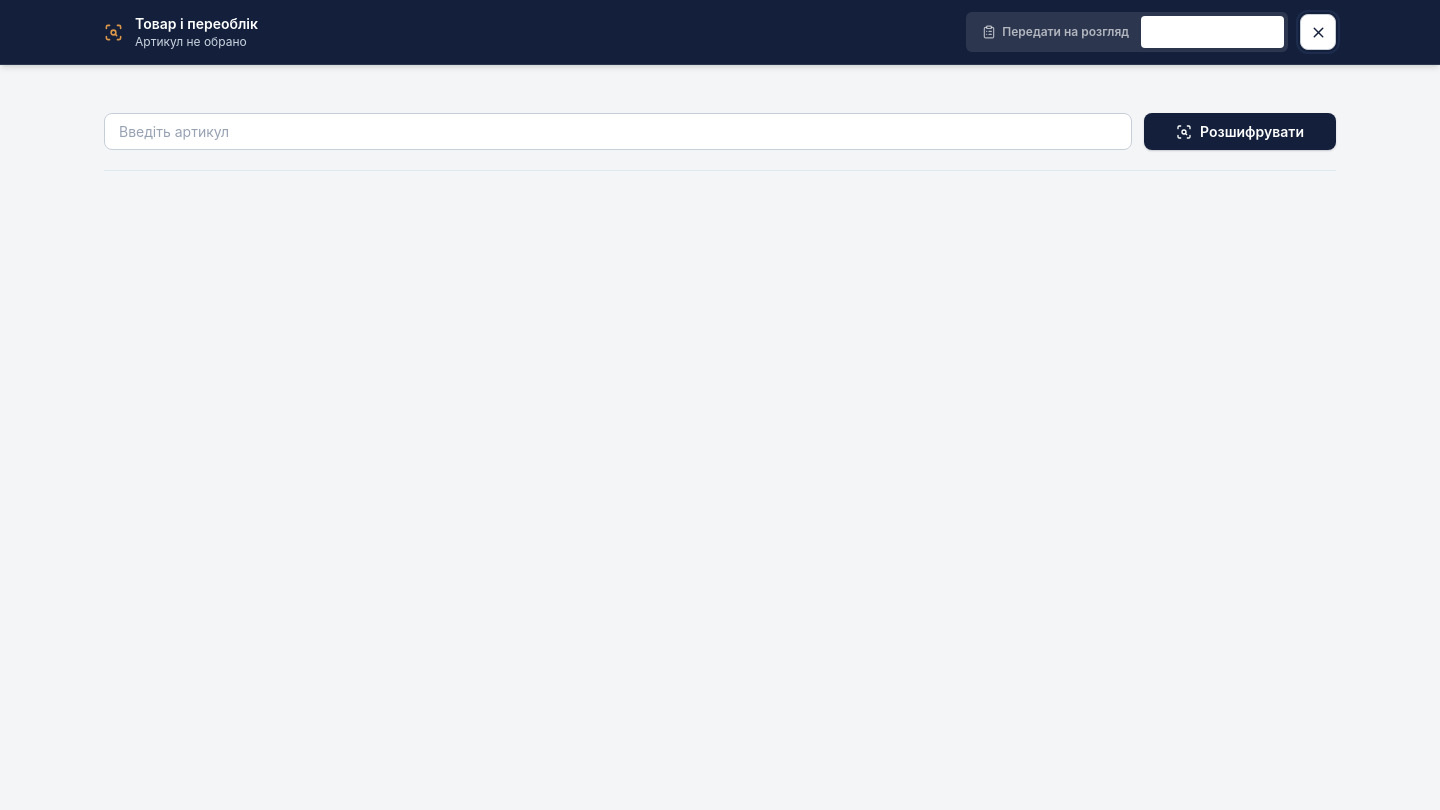
Test: typing and ordinary keys are inert; Enter and the decode button explicitly read the entered article
The image size is (1440, 810).
Step 1. Type " ag-000001 " into the field named "Артикул для розшифрування або переобліку" → (618, 132), box [104,113,1132,150]
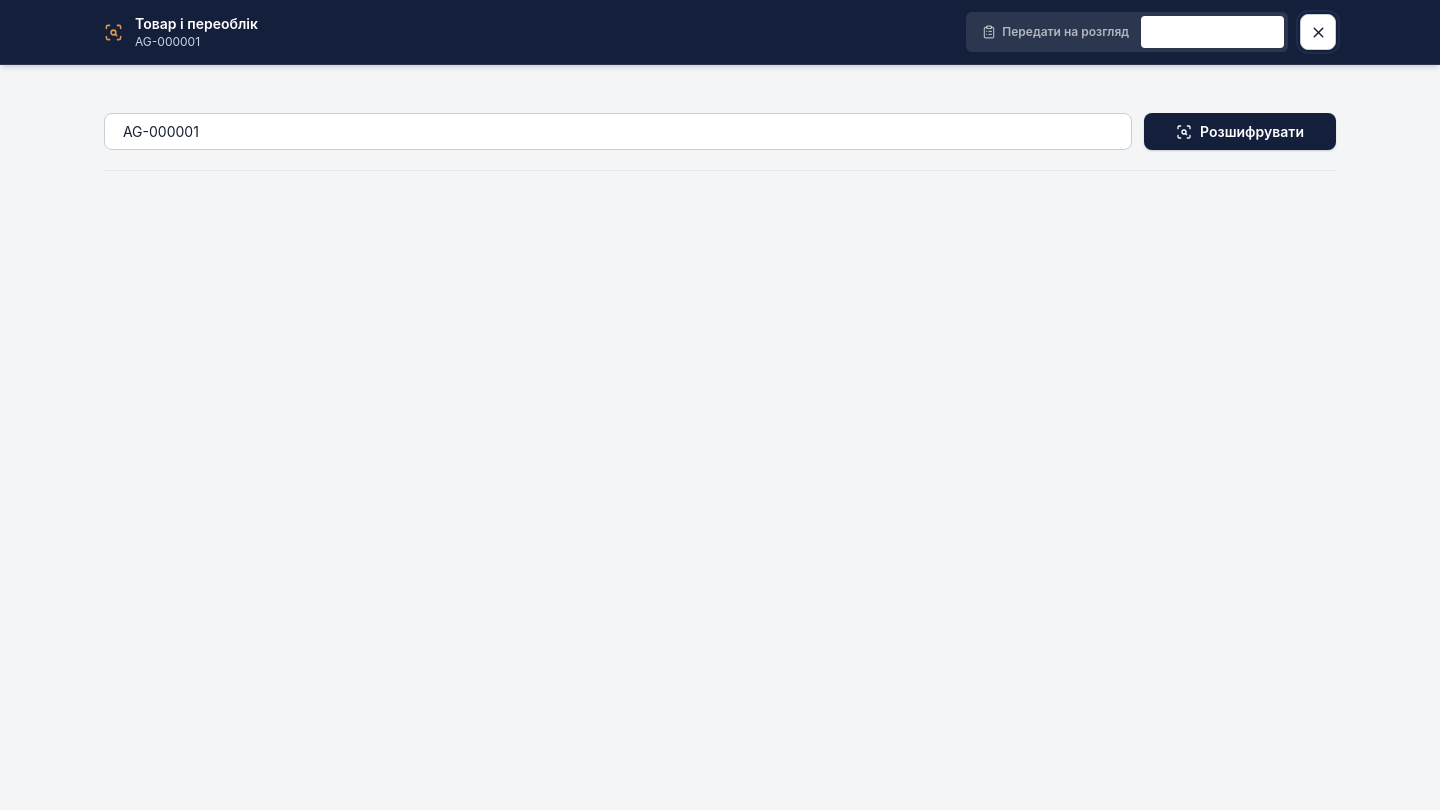
Step 2. Press ArrowLeft in the field named "Артикул для розшифрування або переобліку", box [104,113,1132,150]
Step 3. Press Enter in the field named "Артикул для розшифрування або переобліку", box [104,113,1132,150]
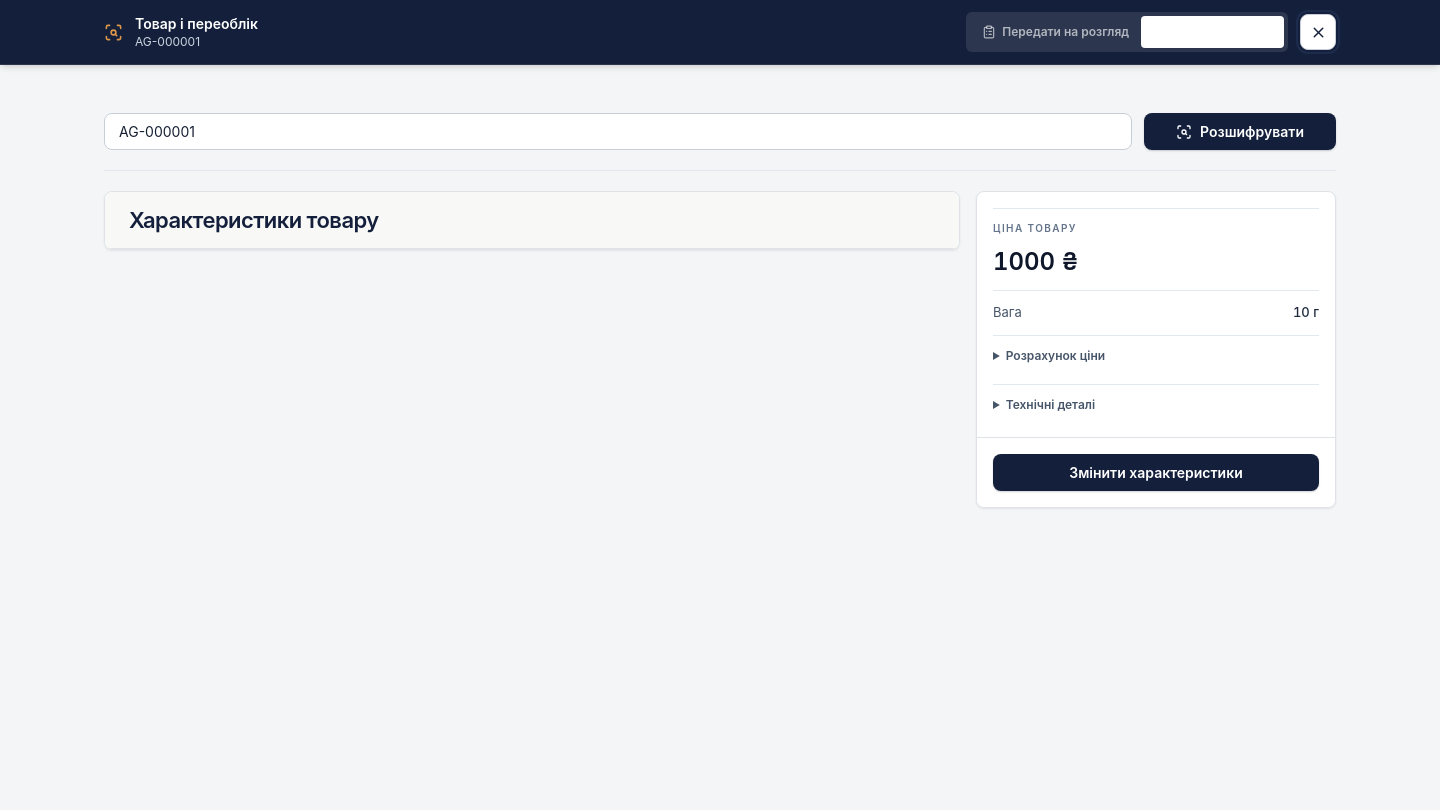
Result: the heading "Характеристики товару" is shown at [129,206,379,234]
Step 4. Replace the text in the field named "Артикул для розшифрування або переобліку" with "ag-000002" → (618, 132), box [104,113,1132,150]
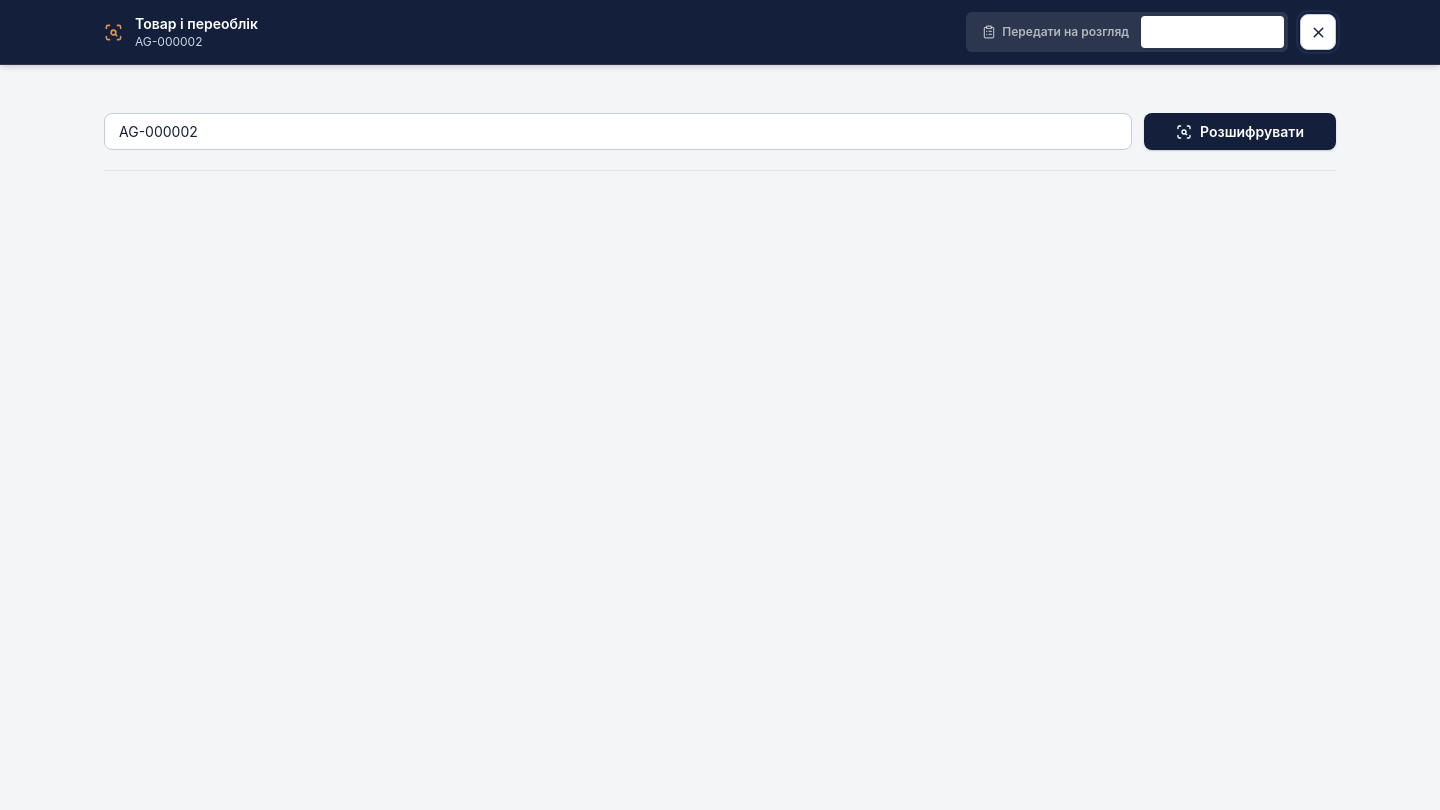
Result: the heading "Характеристики товару" is gone
Step 5. Click the button "Розшифрувати" → click(1240, 132), box [1144,113,1336,150]
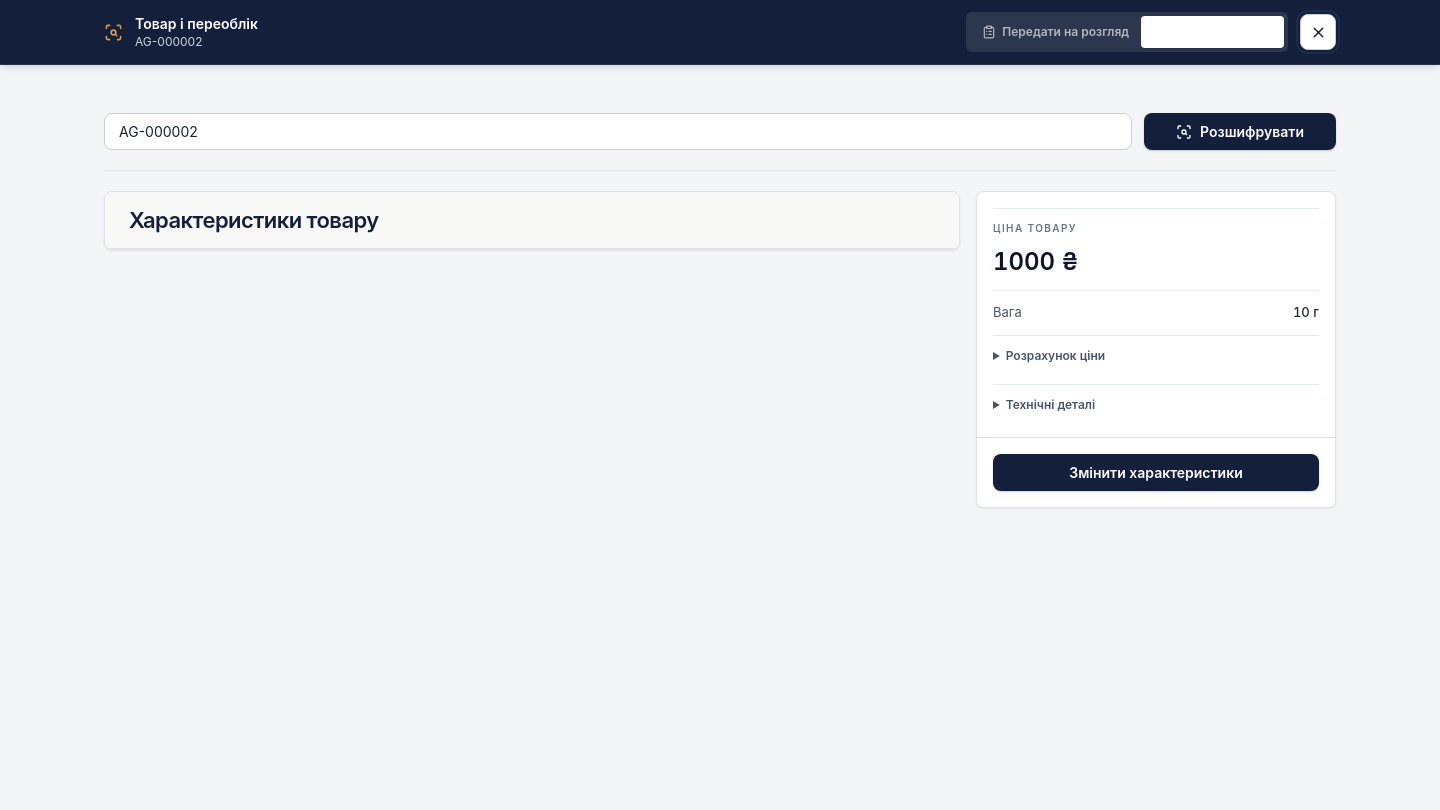
Result: the heading "Характеристики товару" is shown at [129,206,379,234]
